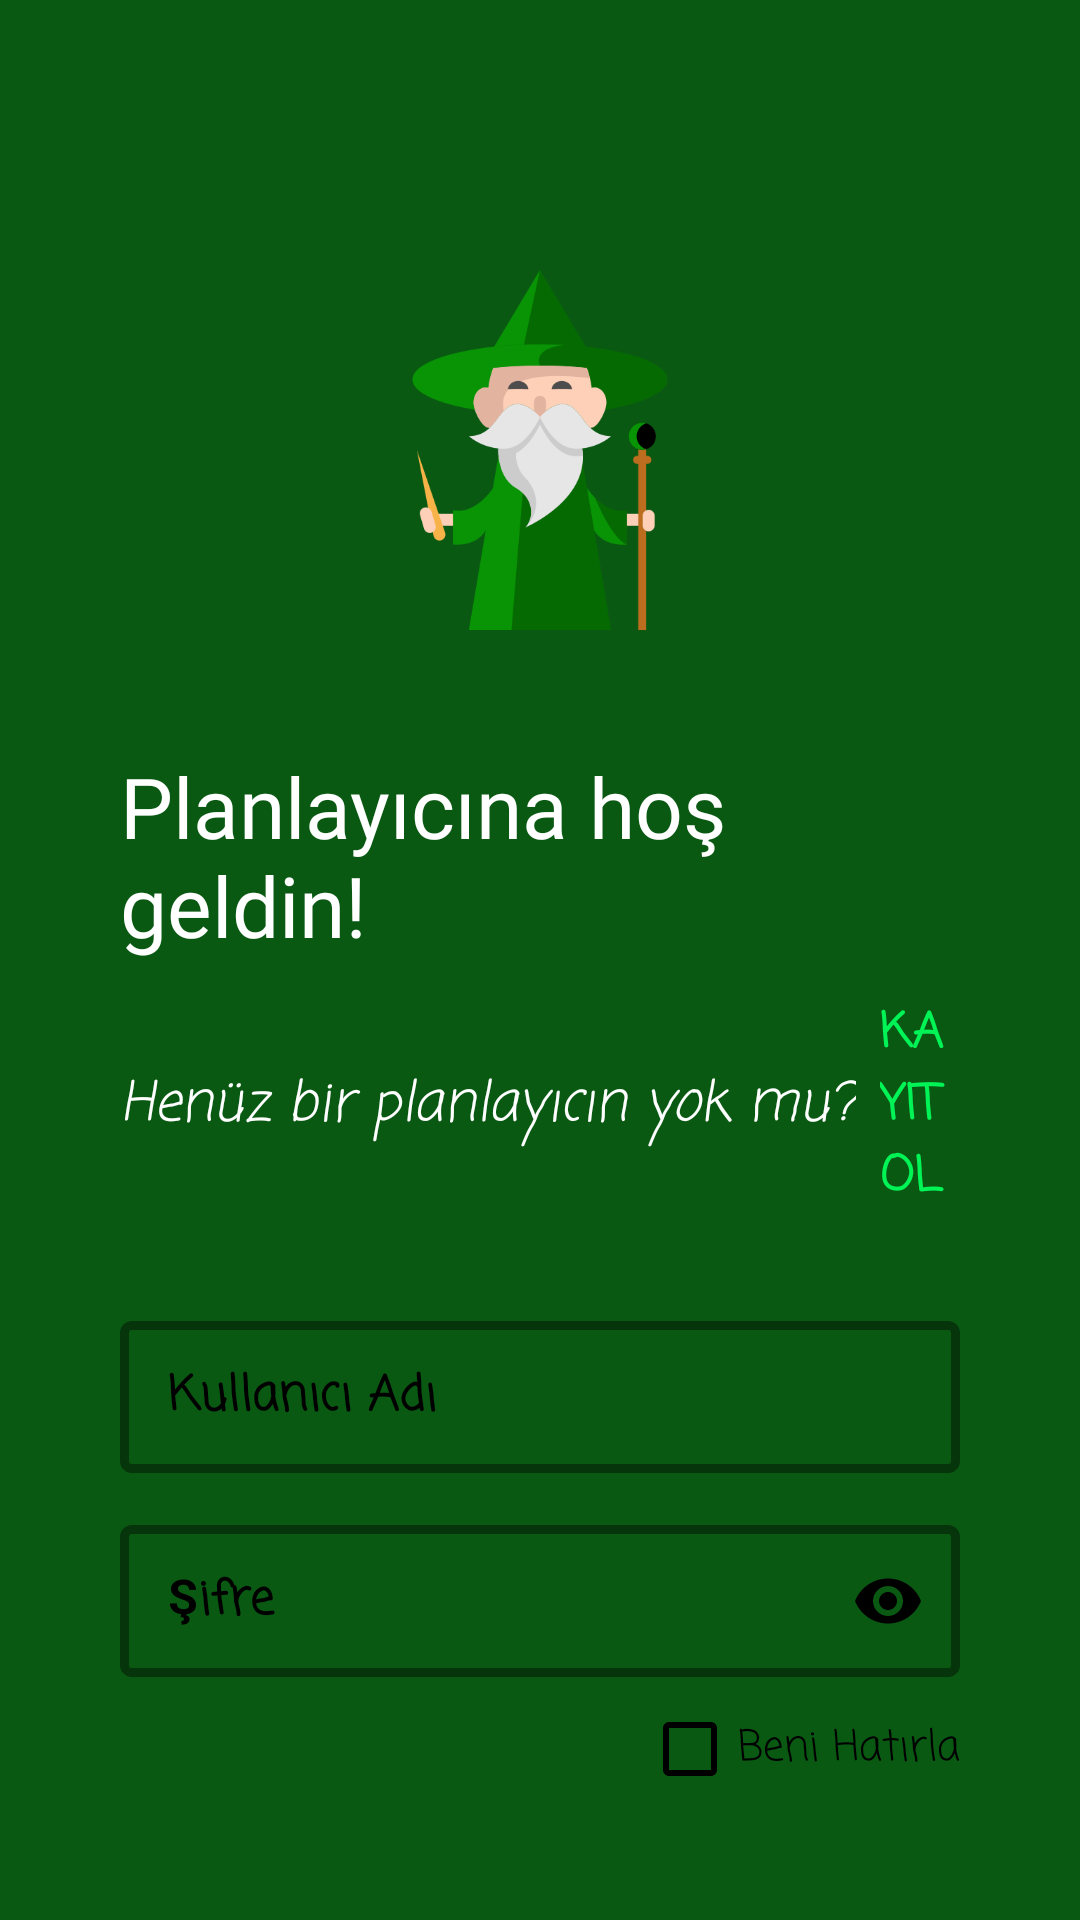

Locate icon controls on the screen. Image size 1080*1920, boxes as (x1, y1, x2, y2).
wizard: (412, 271, 656, 630)
